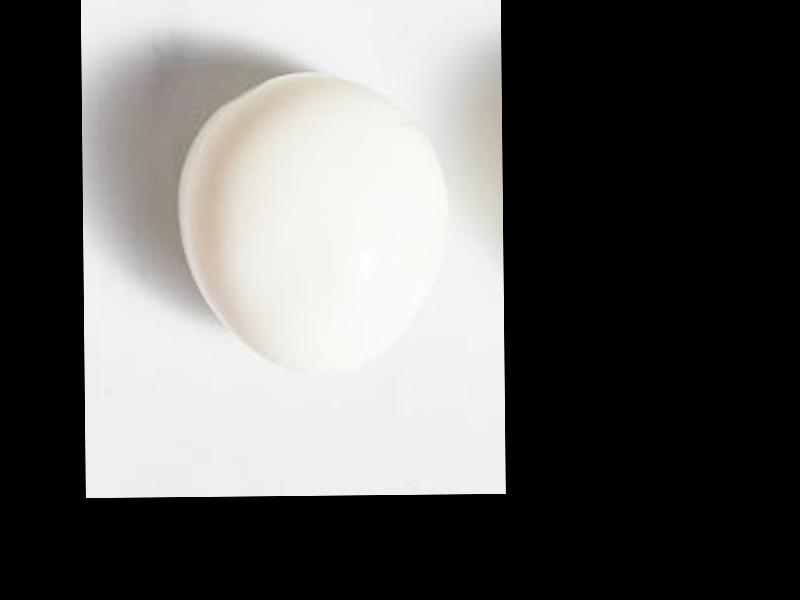Eggs: (177, 70, 449, 373)
